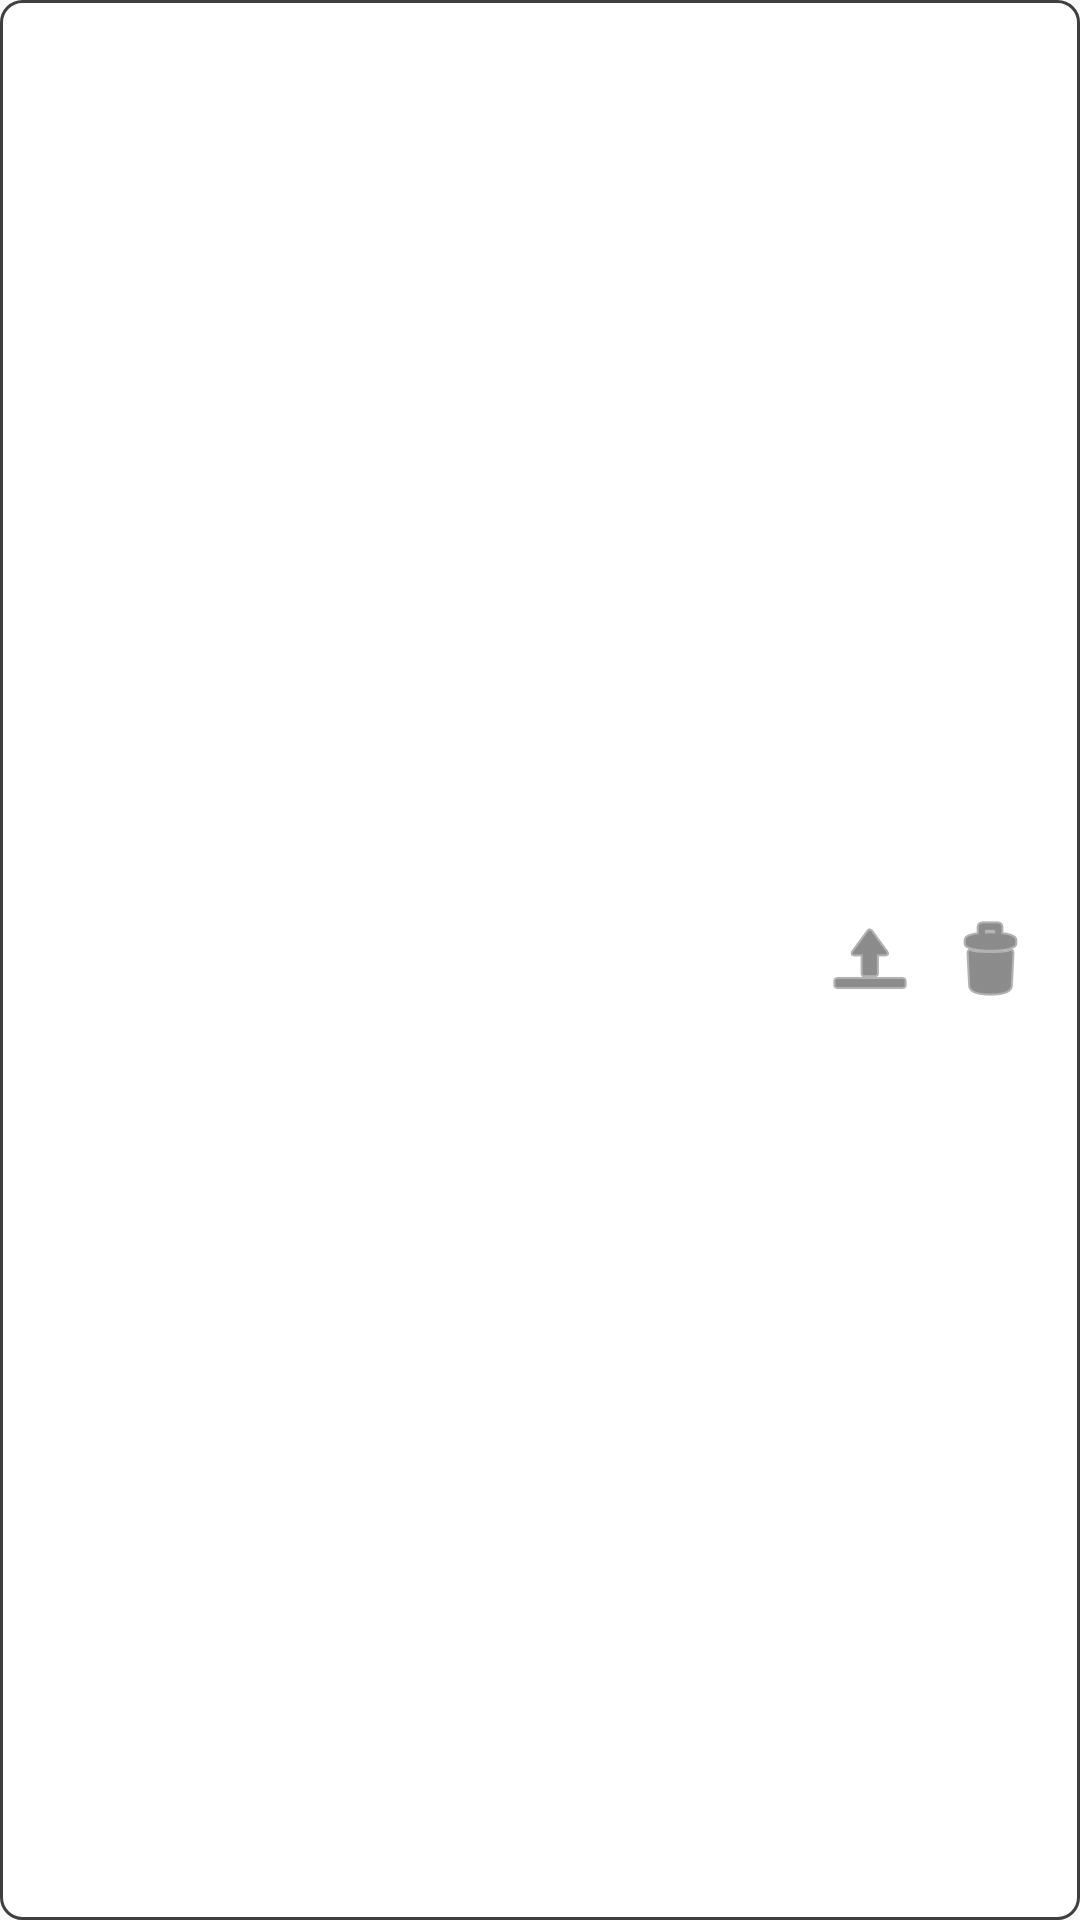

Icons on this 1080w x 1920h Android screen, each with its box as bbox=[x1, y1, x2, y2]:
delete: bbox=[963, 921, 1018, 996]
upload: bbox=[833, 928, 907, 989]
